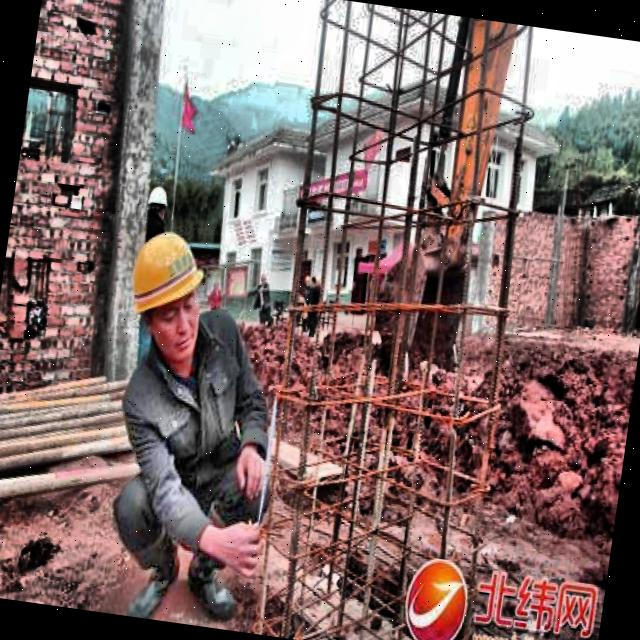helmet: (115, 217, 218, 368), (144, 180, 172, 230)
